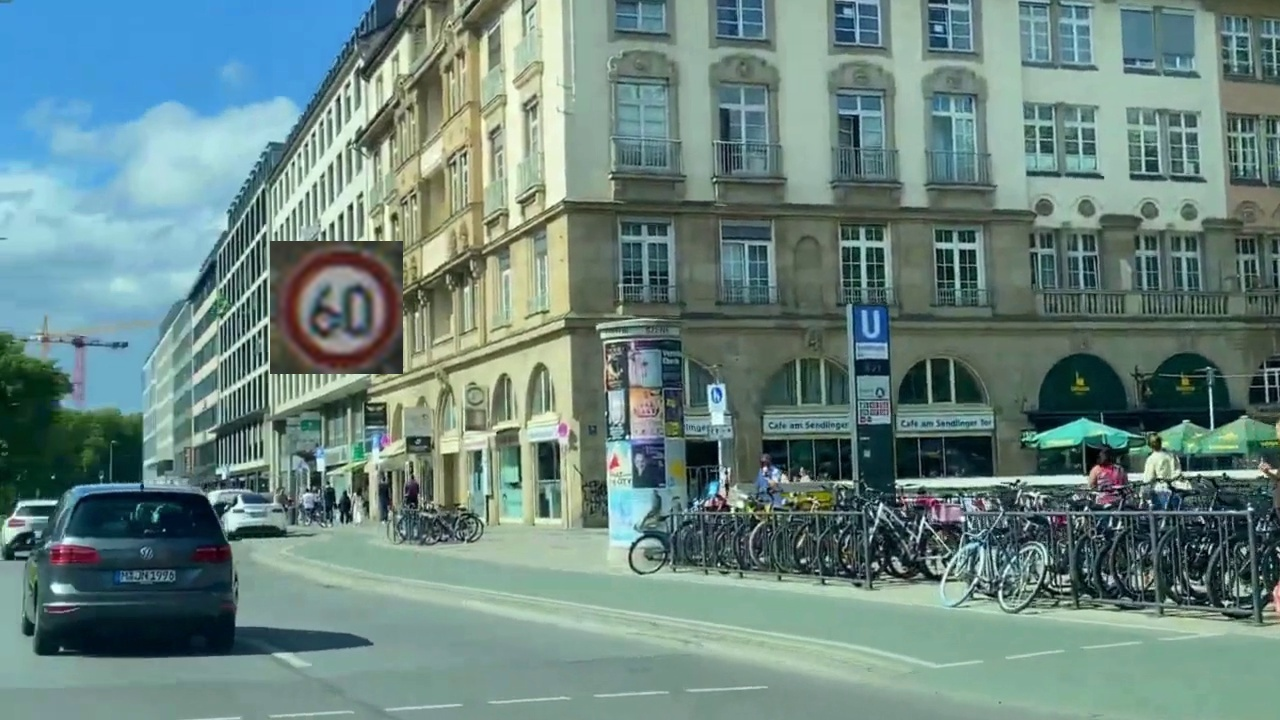Speed 60: (270, 241, 403, 374)
